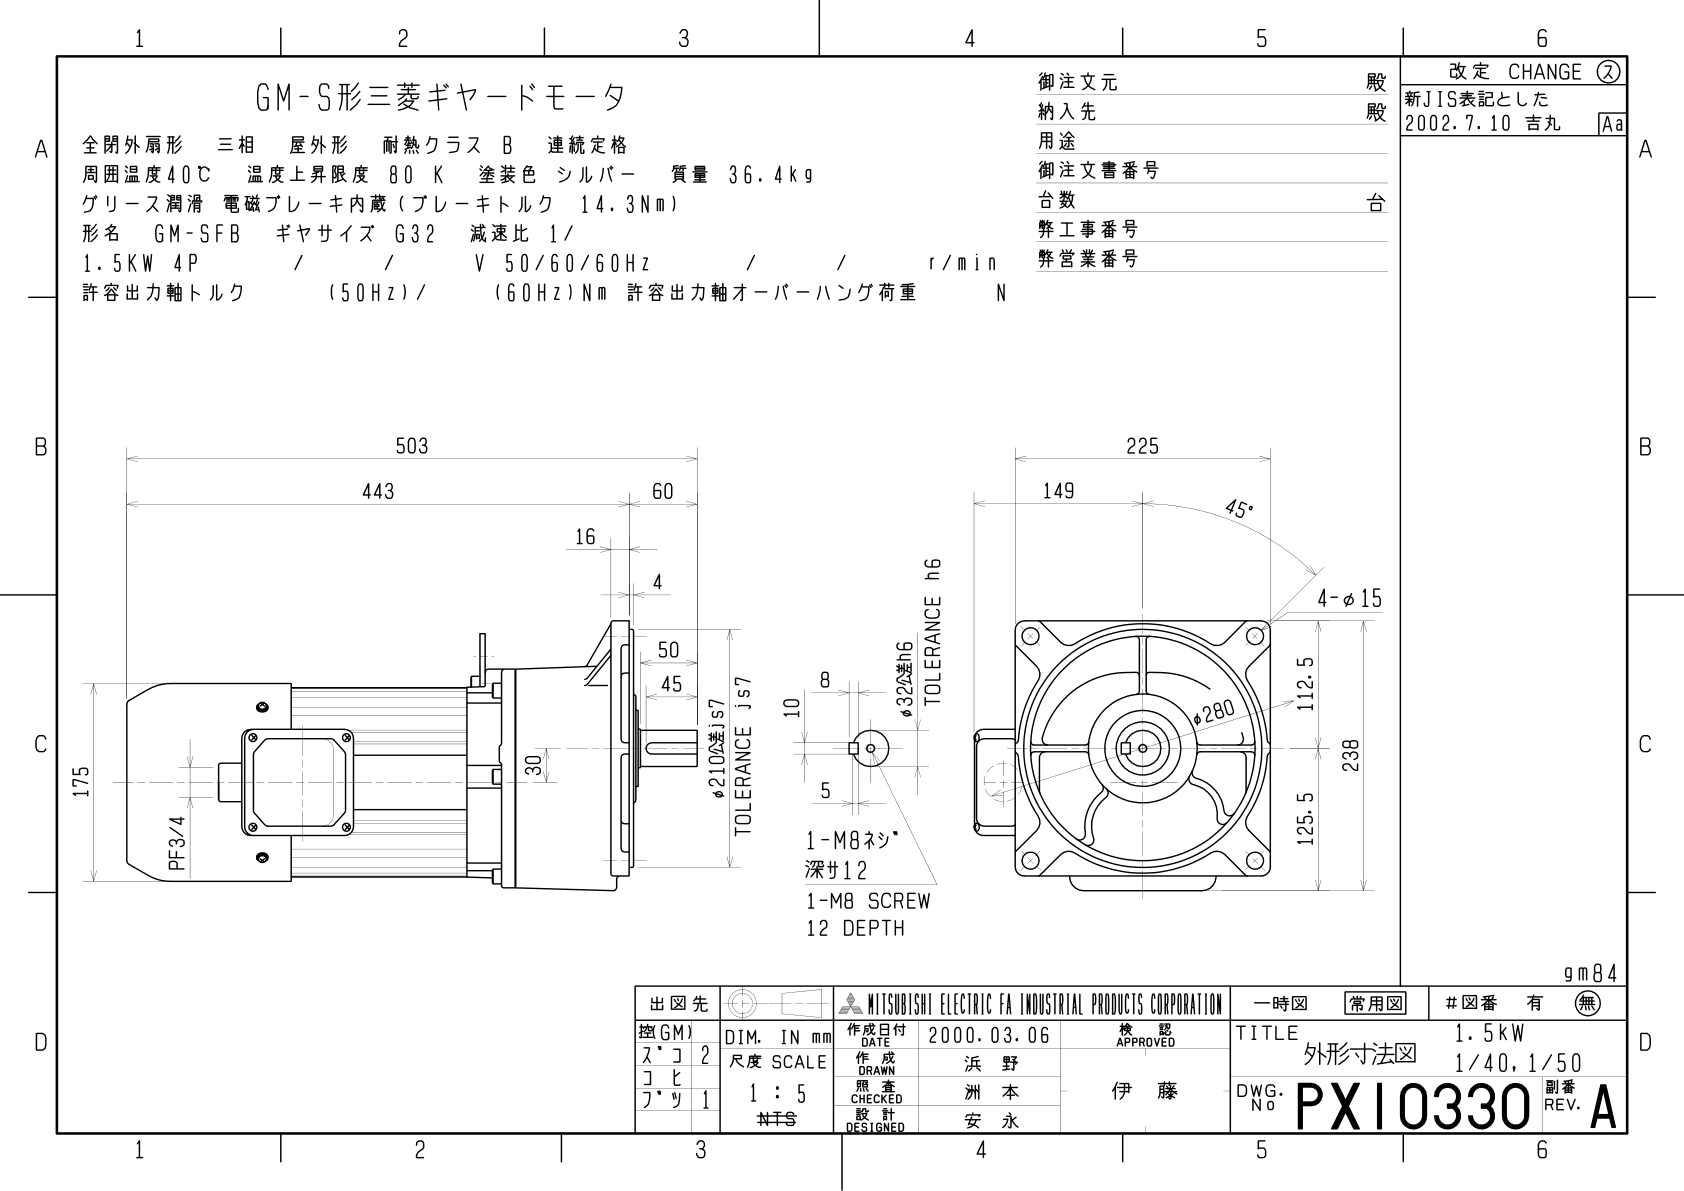GM_S_屋外＿三相_フランジ: (63, 391, 1392, 973)
